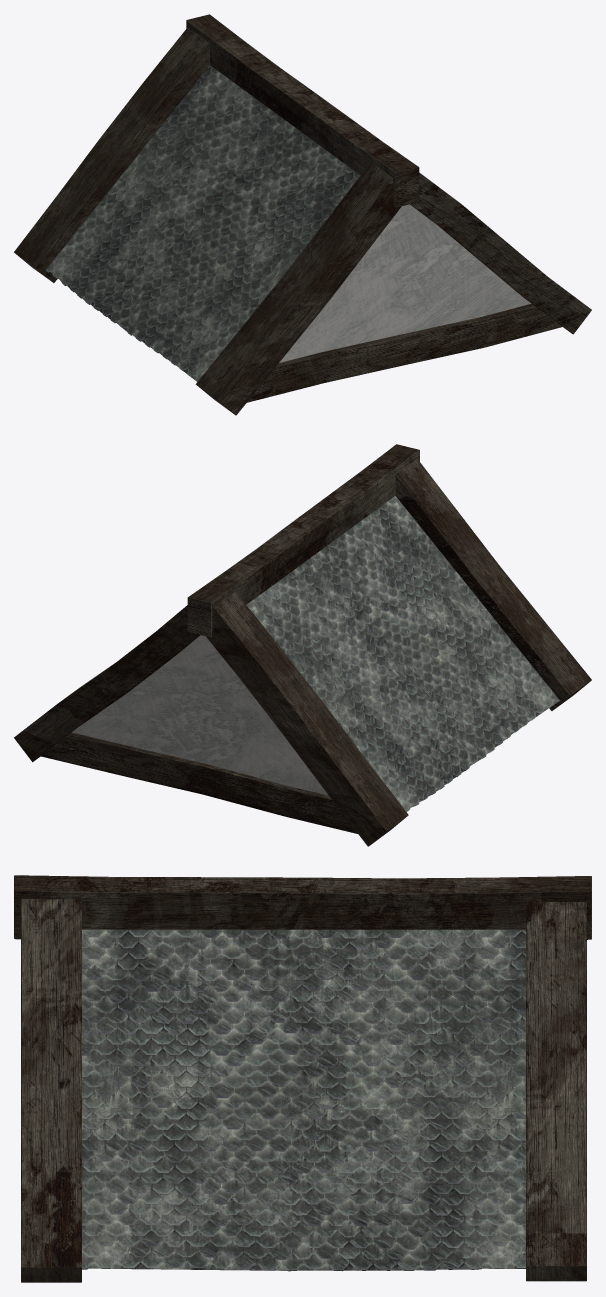
Rendered from WhiteRoof1.fbx.
The picture shows the model from 3 angles, top to bottom: view 1: azimuth 30°, elevation 25°; view 2: azimuth 150°, elevation 25°; view 3: azimuth 270°, elevation 25°; orthographic projection. The views are drawn at different scales.
Visible parts, largest first — view 1: White Wall Roof Large; view 2: White Wall Roof Large; view 3: White Wall Roof Large.
Part boxes in pixels (x1,y1,x2,y2): White Wall Roof Large: [14, 14, 591, 415]; White Wall Roof Large: [14, 444, 591, 846]; White Wall Roof Large: [14, 875, 591, 1282].
Bounding box in the file's own units: 536 × 285 × 518.
